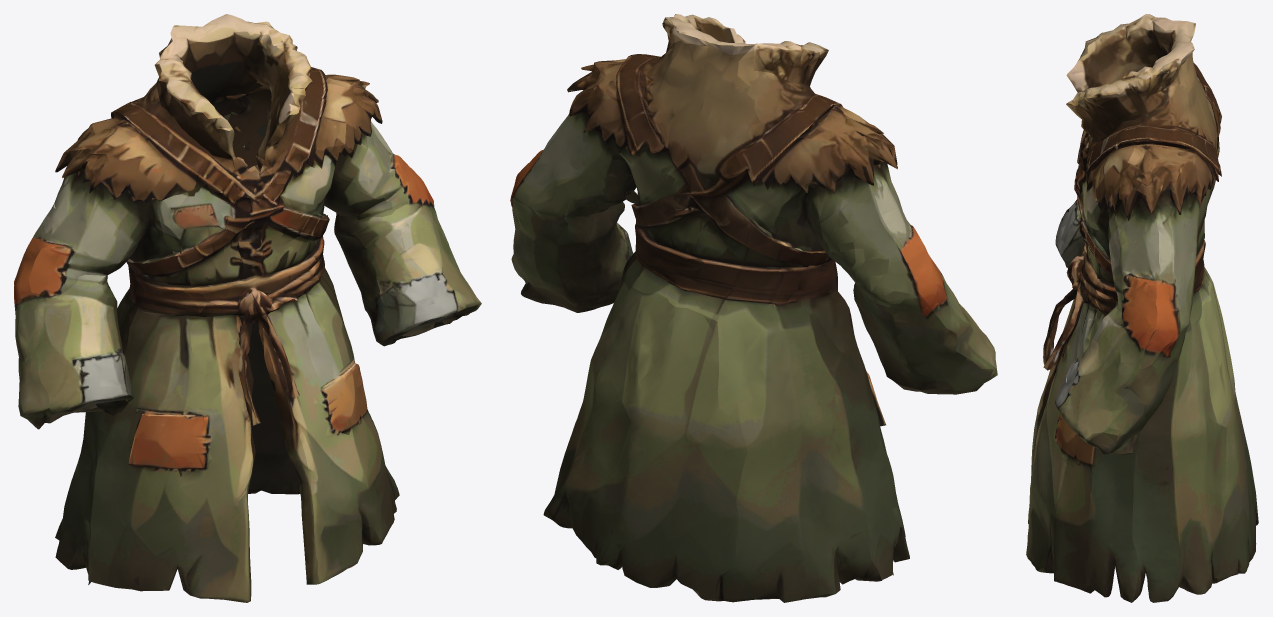
The model's file is item_fur_coat.glb.
The picture shows the model from 3 angles, left to right: view 1: azimuth 30°, elevation 25°; view 2: azimuth 150°, elevation 25°; view 3: azimuth 270°, elevation 25°; orthographic projection. The views are drawn at different scales.
Visible parts, largest first — view 1: item_fur_coat; view 2: item_fur_coat; view 3: item_fur_coat.
Part boxes in pixels (x1,y1,x2,y2): item_fur_coat: (14, 14, 481, 602); item_fur_coat: (510, 14, 997, 602); item_fur_coat: (1026, 14, 1258, 602).
Bounding box in the file's own units: 0.7399 × 0.8 × 0.3313.
Materials: 1 (1 with a texture image).
